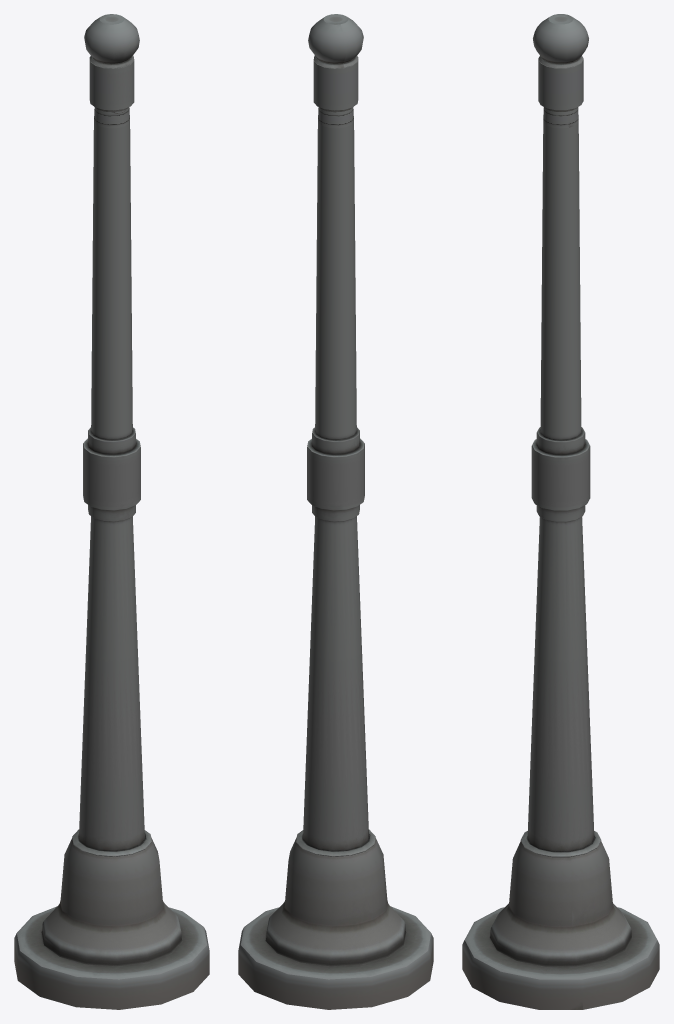
The model's file is Street light walking only.gltf.
3 renders of one model, left to right at view 1: azimuth 30°, elevation 25°; view 2: azimuth 150°, elevation 25°; view 3: azimuth 270°, elevation 25°, orthographic.
Parts seen in each view (by area): view 1: SM_Street_Light; view 2: SM_Street_Light; view 3: SM_Street_Light.
Part boxes in pixels (bbox=[...]): SM_Street_Light: bbox=[14, 14, 209, 1009]; SM_Street_Light: bbox=[238, 14, 433, 1009]; SM_Street_Light: bbox=[462, 14, 659, 1009].
Bounding box in the file's own units: 0.4233 × 2.31 × 0.4342.
